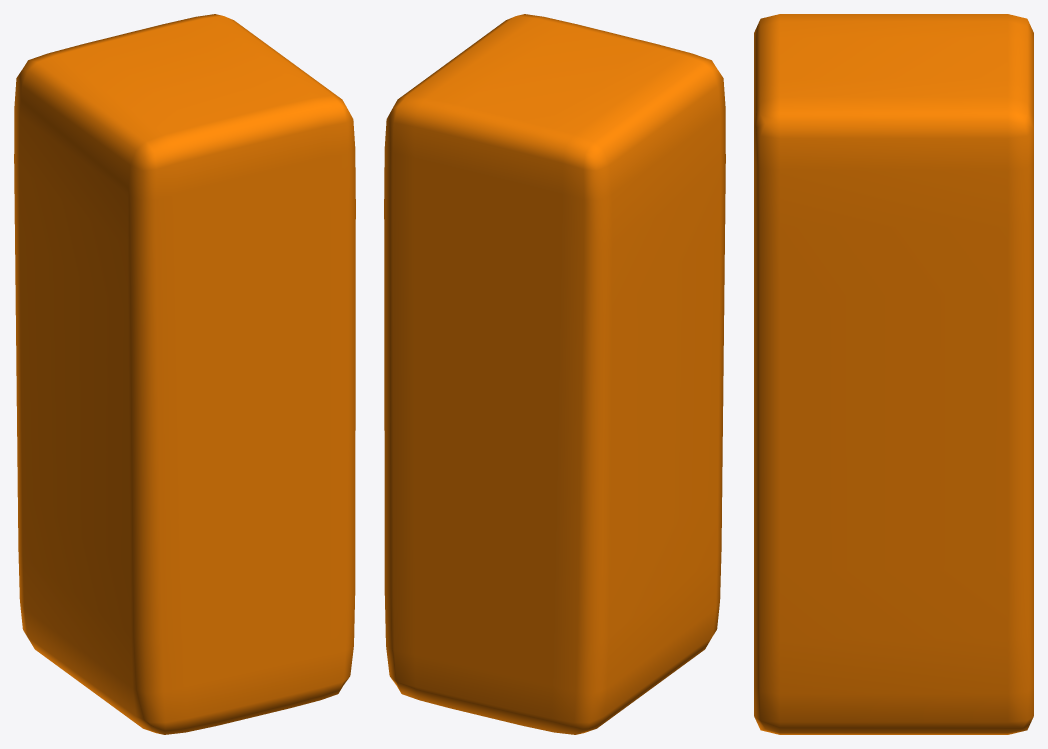
3 renders of one model, left to right at view 1: azimuth 30°, elevation 25°; view 2: azimuth 150°, elevation 25°; view 3: azimuth 270°, elevation 25°, orthographic. The views are drawn at different scales.
Parts seen in each view (by area): view 1: LETTER_I; view 2: LETTER_I; view 3: LETTER_I.
Part boxes in pixels (bbox=[...]): LETTER_I: bbox=[14, 14, 355, 734]; LETTER_I: bbox=[384, 14, 725, 734]; LETTER_I: bbox=[754, 14, 1033, 734].
Size of the model in its own units: 0.3877 by 1 by 0.3999.
